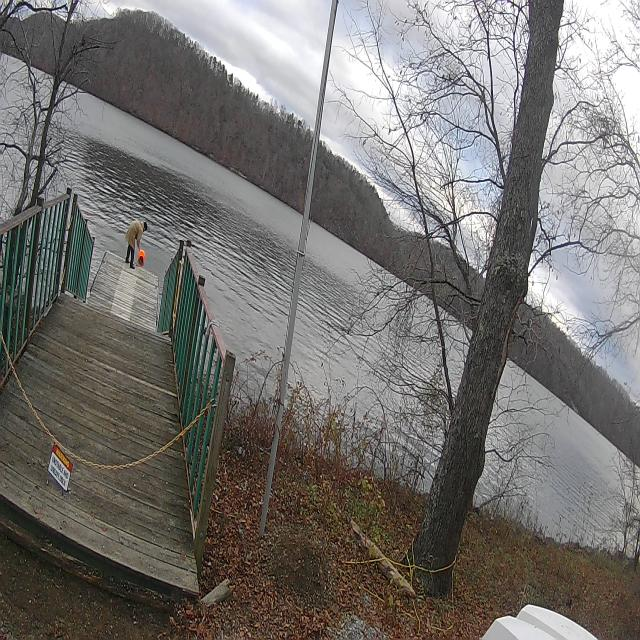Buoy: (135, 242, 146, 271)
